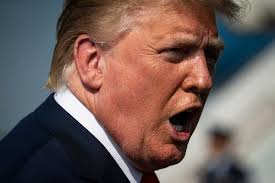white_male: (83, 22, 219, 168)
